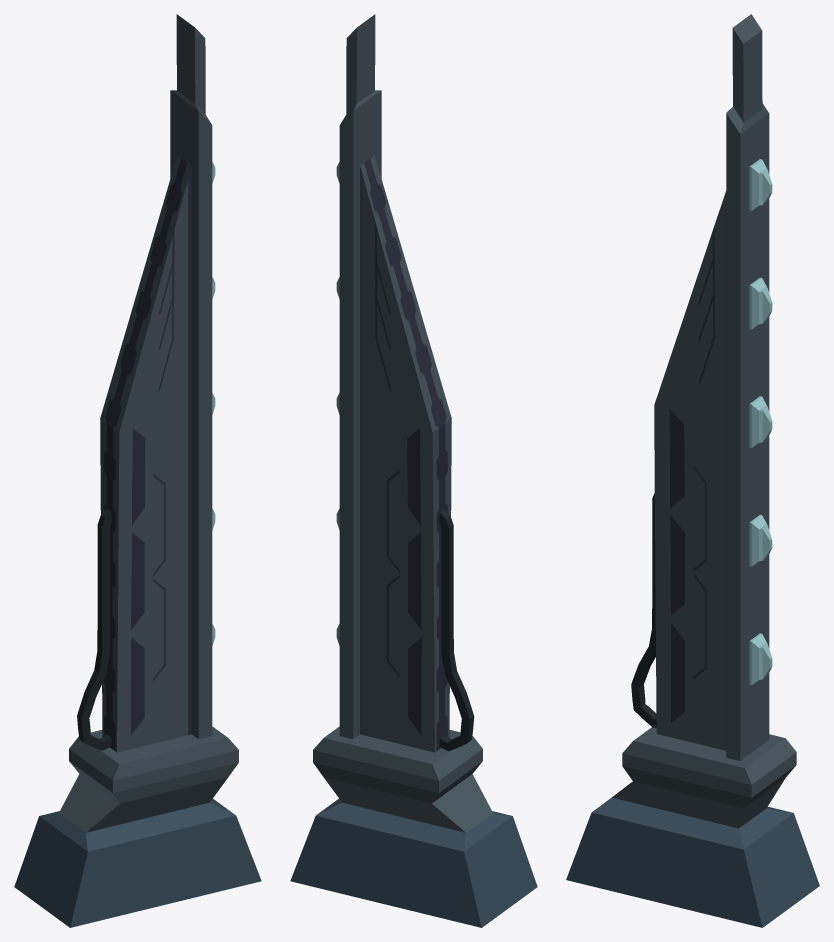
Rendered from spire_1.fbx.
The picture shows the model from 3 angles, left to right: view 1: azimuth 30°, elevation 25°; view 2: azimuth 150°, elevation 25°; view 3: azimuth 330°, elevation 25°; orthographic projection. The views are drawn at different scales.
Parts seen in each view (by area): view 1: Spire_body; view 2: Spire_body; view 3: Spire_body.
Part boxes in pixels (bbox=[...]): Spire_body: bbox=[14, 14, 261, 927]; Spire_body: bbox=[290, 14, 537, 927]; Spire_body: bbox=[566, 14, 819, 927].
Bounding box in the file's own units: 251 × 1065 × 127.
